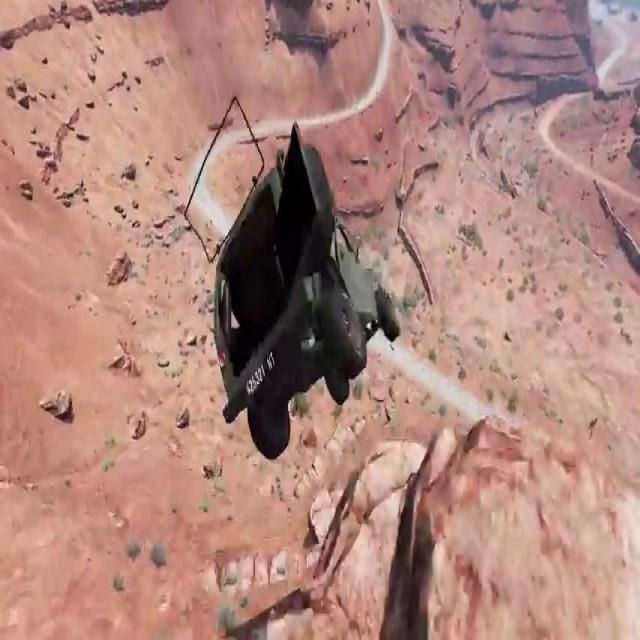accident: (195, 109, 401, 460)
